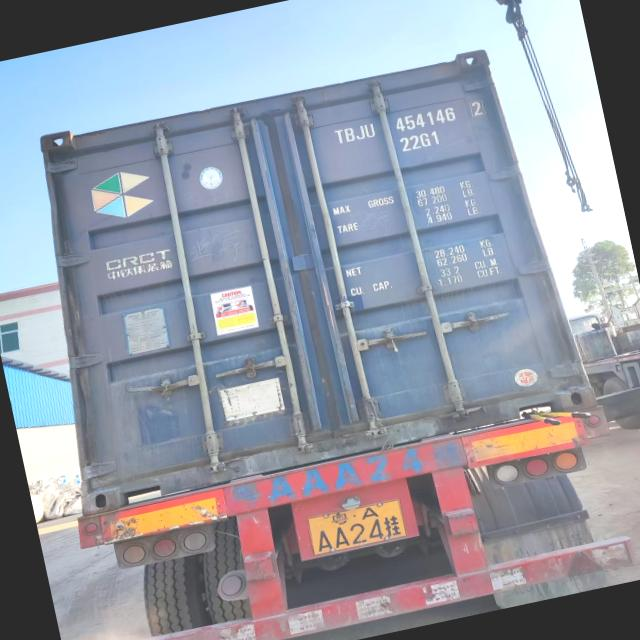seal: (378, 324, 404, 358)
